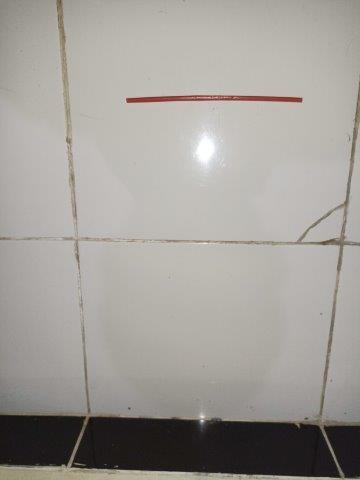sedotan: (125, 95, 303, 103)
